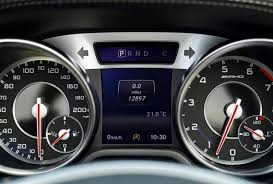Digital_Meter: (99, 70, 173, 144)
